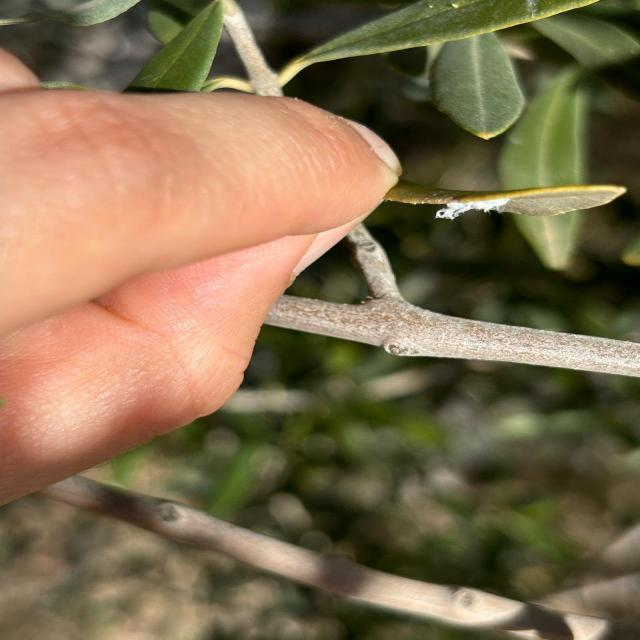Psyllid: (436, 196, 511, 220)
